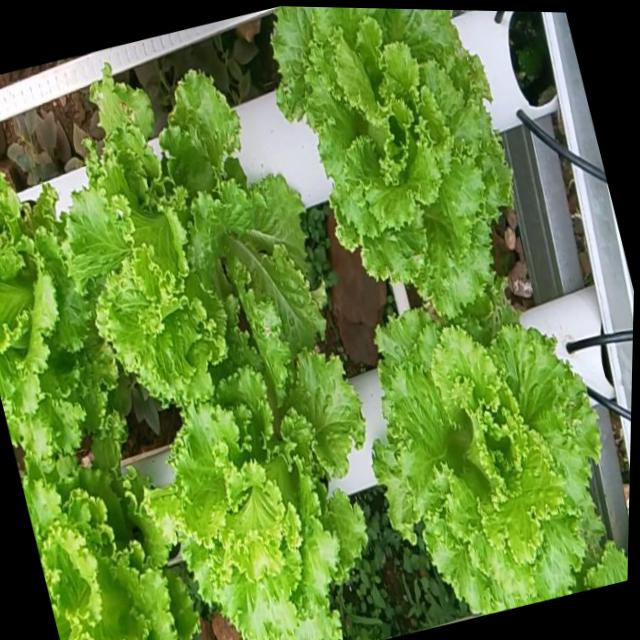Mature: (60, 71, 321, 416), (369, 305, 628, 617), (269, 6, 509, 321), (152, 341, 364, 640), (20, 459, 196, 640), (0, 176, 113, 454)
